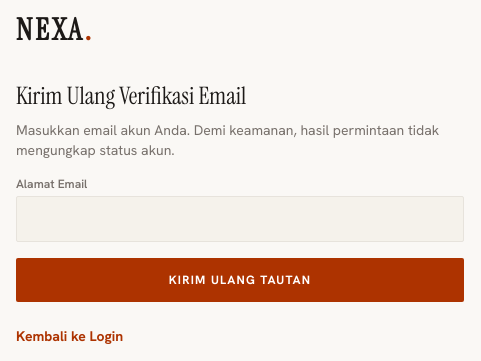
it: ResendVerificationPage › sends the email to the resend-verification contract and shows a privacy-safe result
In the field labelled "Alamat Email": (240, 219) left=16, top=196, right=464, bottom=242, type "buyer@example.com"
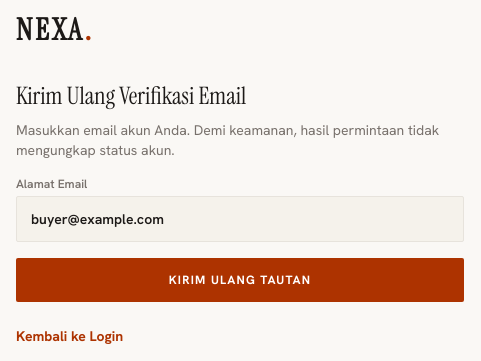
Click the button "Kirim Ulang Tautan": (240, 280) left=16, top=258, right=464, bottom=302
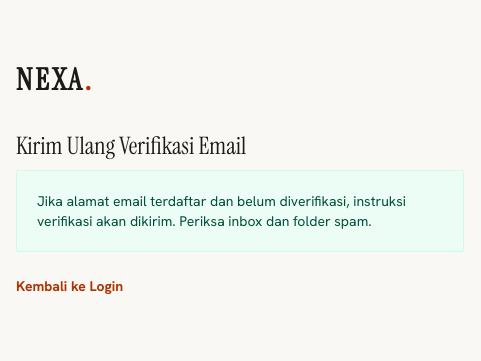
Check: the message shows "Jika alamat email terdaftar dan belum diverifikasi", box left=37, top=192, right=406, bottom=230
